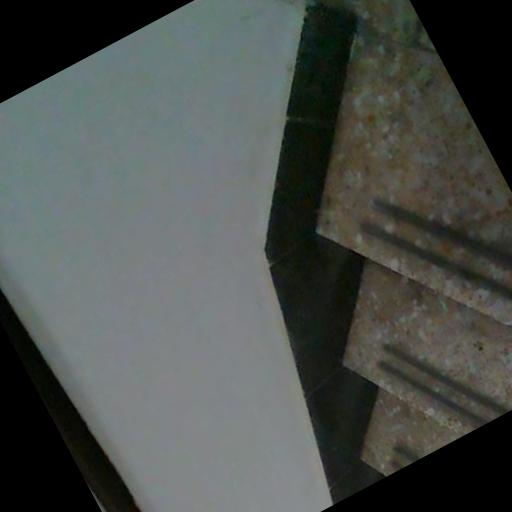stairs: (318, 37, 511, 474)
